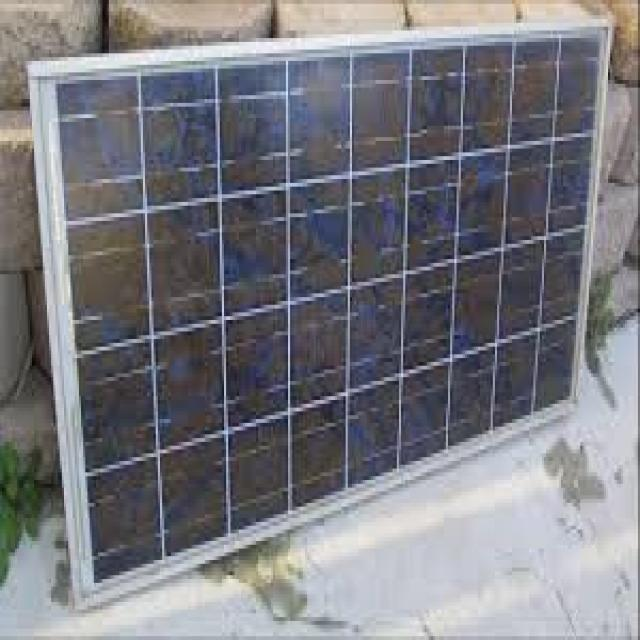faulty: (55, 25, 608, 571)
